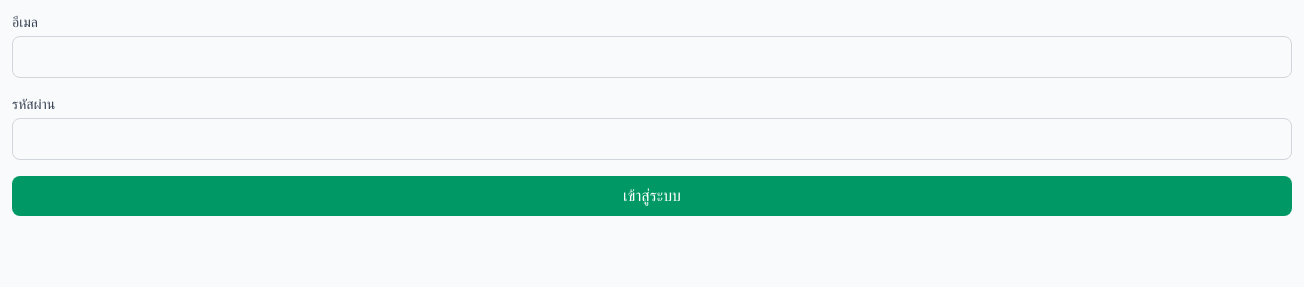
Test: <LoginForm /> › shows one generic message for wrong credentials and clears the password
In the field labelled "อีเมล": (652, 57) [12,36,1292,78], type "somchai@example.com"
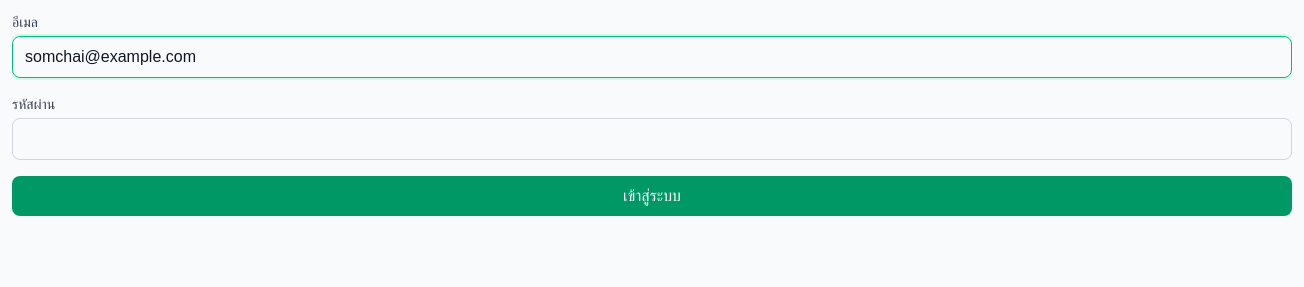
In the password field labelled "รหัสผ่าน": (652, 139) [12,118,1292,160], type "wrong-password"
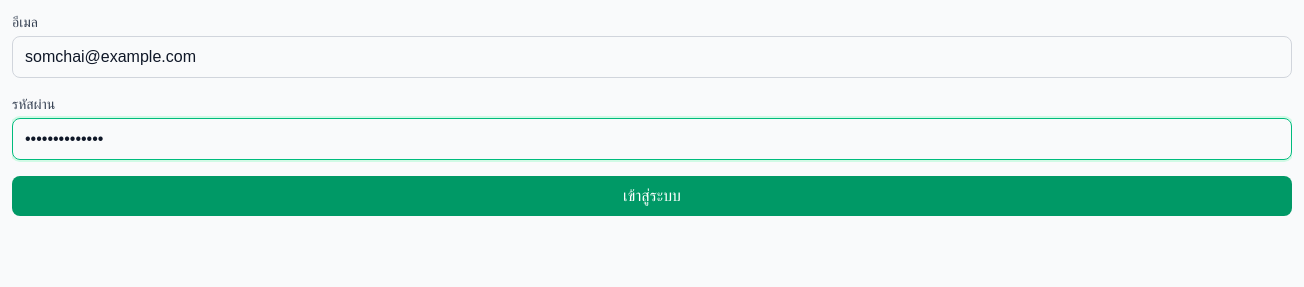
Click the button "เข้าสู่ระบบ": (652, 196) [12,176,1292,216]
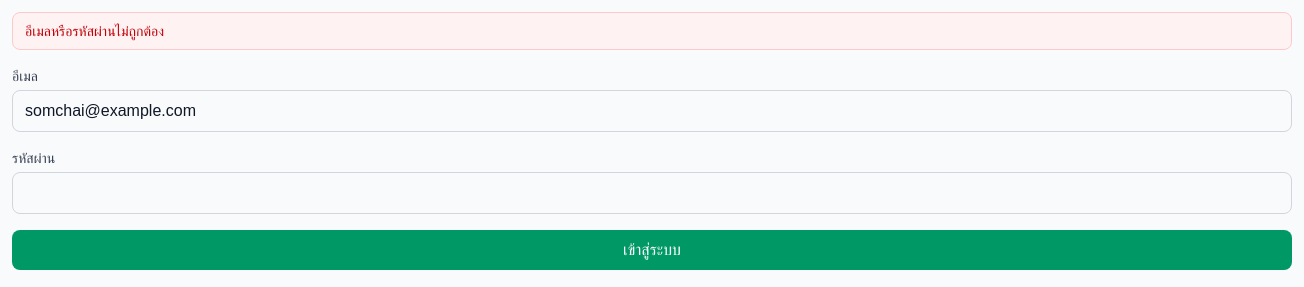
Now the message reads "อีเมลหรือรหัสผ่านไม่ถูกต้อง", box [25,23,164,39]
Now the password field labelled "รหัสผ่าน" is empty, box [12,172,1292,214]
